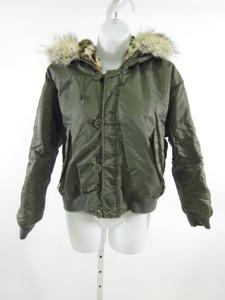C_jacket: (11, 25, 218, 241)
